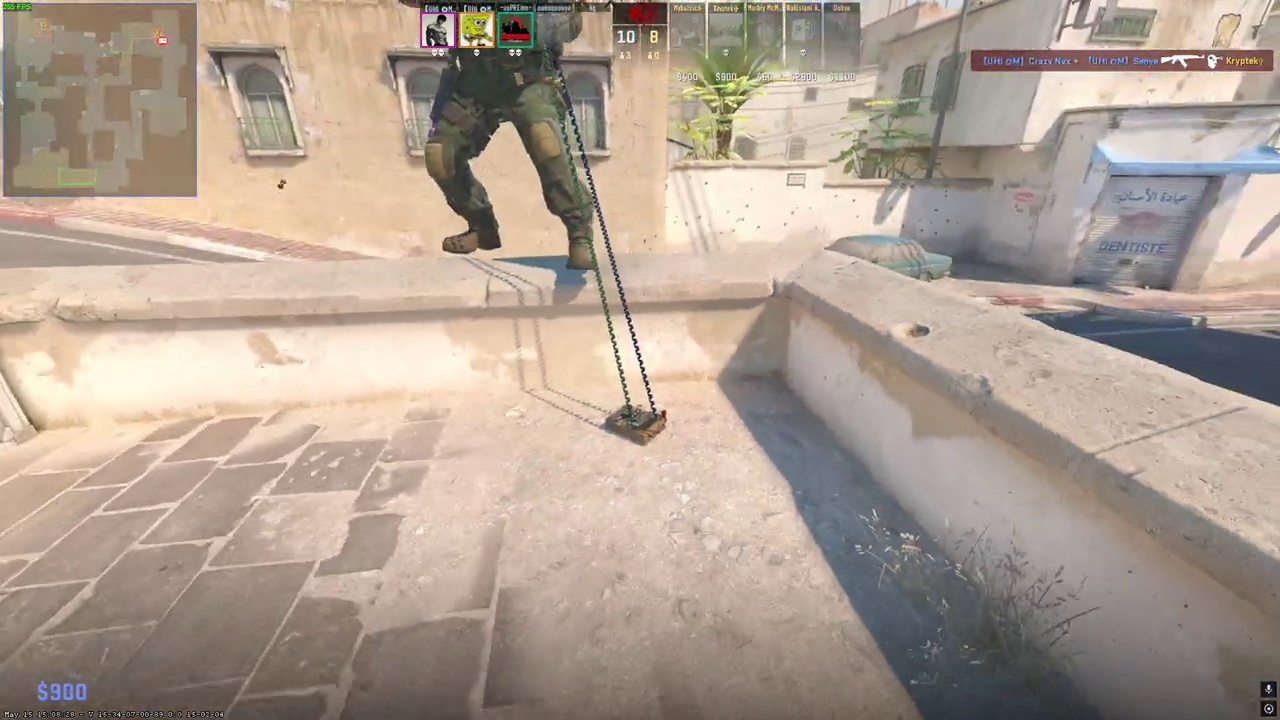CT: (422, 0, 596, 270)
